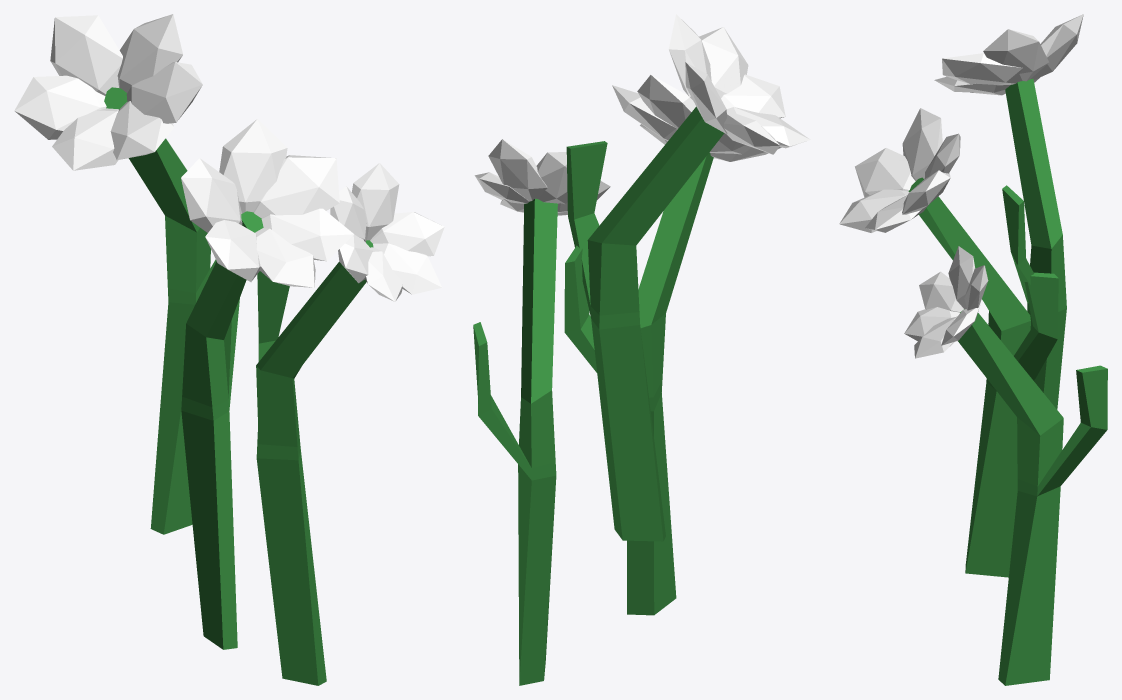
3 views of the same model, side by side, from view 1: azimuth 30°, elevation 25°; view 2: azimuth 150°, elevation 25°; view 3: azimuth 270°, elevation 25° (orthographic). The views are drawn at different scales.
Parts seen in each view (by area): view 1: Flower, Flower.001, Flower.002; view 2: Flower.001, Flower.002, Flower; view 3: Flower.002, Flower, Flower.001.
Part boxes in pixels (x1=…): Flower: x1=181, y1=119, x2=354, y2=649; Flower.001: x1=14, y1=14, x2=216, y2=534; Flower.002: x1=256, y1=163, x2=444, y2=685; Flower.001: x1=566, y1=14, x2=810, y2=541; Flower.002: x1=473, y1=139, x2=610, y2=685; Flower: x1=564, y1=75, x2=781, y2=615; Flower.002: x1=904, y1=246, x2=1107, y2=685; Flower: x1=839, y1=108, x2=1058, y2=577; Flower.001: x1=934, y1=14, x2=1083, y2=409.
Bounding box in the file's own units: 1.23 × 2.22 × 0.9076.
